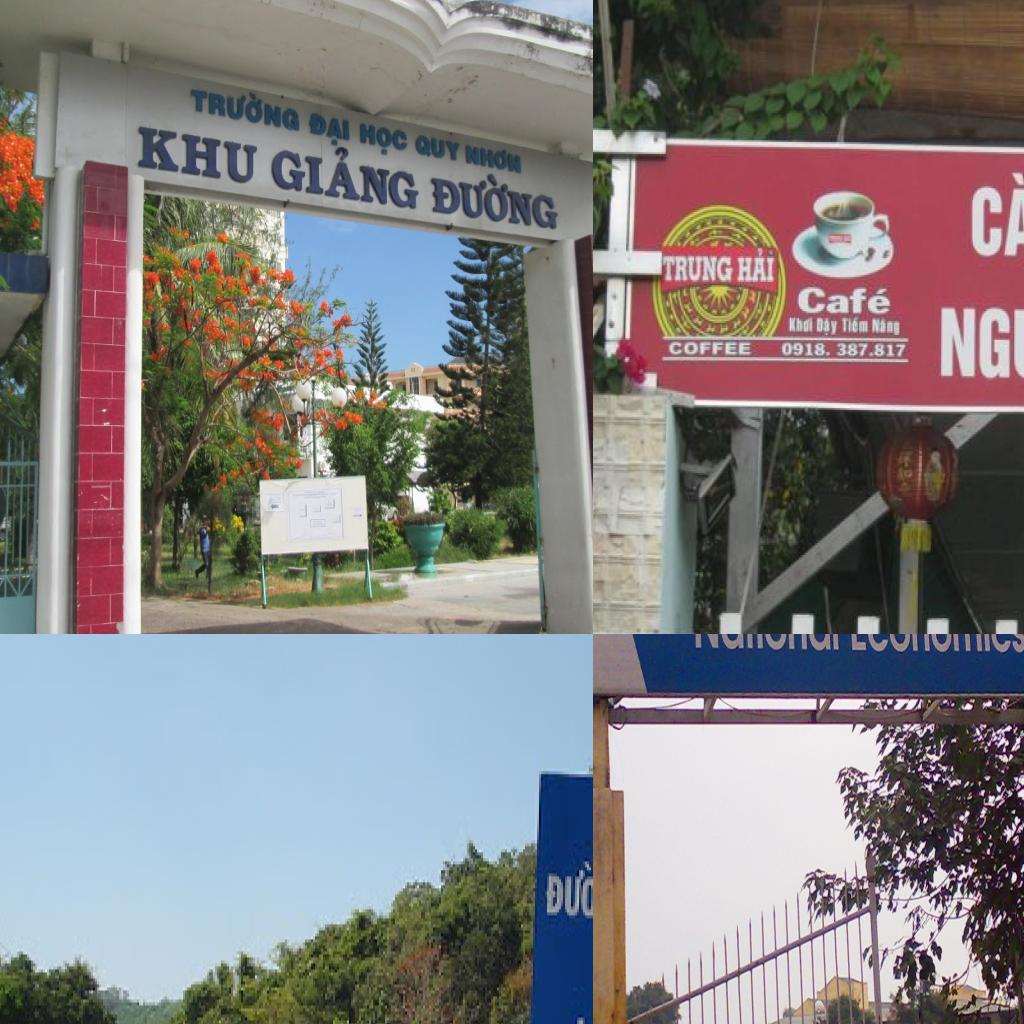text: (268, 137, 421, 211), (430, 162, 560, 231), (941, 295, 1024, 381), (137, 126, 259, 184), (187, 80, 301, 134), (970, 171, 1024, 259), (543, 855, 593, 930), (846, 634, 1024, 655), (692, 634, 842, 654), (796, 289, 892, 316), (662, 256, 735, 286), (781, 342, 908, 358), (358, 122, 408, 160), (466, 142, 523, 174), (308, 112, 351, 147), (736, 248, 776, 284), (415, 134, 462, 164), (667, 342, 752, 357), (871, 318, 900, 336), (816, 316, 838, 338), (842, 316, 870, 333), (788, 316, 814, 333), (410, 367, 416, 373)
